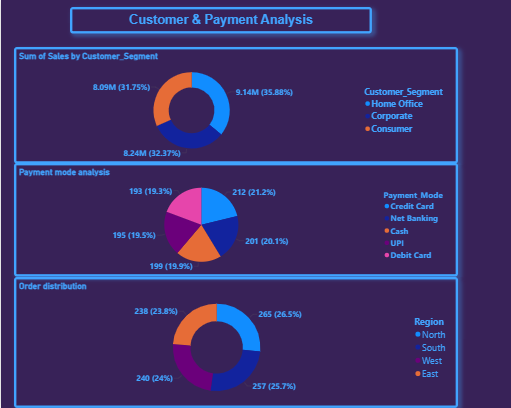

Layout of this report page (visuals, bound fields, positions):
{"tool":"powerbi","page":{"name":"Page 3","canvas":[1500,1200],"ordinal":2},"visuals":[{"type":"textbox","box":[204.1,20.4,887.8,77.6],"z":0},{"type":"donutChart","fields":{"Category":["SalesData.Customer_Segment"],"Y":["Sum(SalesData.Sales)"]},"box":[37.3,137.3,1306,343.3],"z":1000},{"type":"pieChart","title":"Payment mode analysis","fields":{"Category":["SalesData.Payment_Mode"],"Y":["CountNonNull(SalesData.Payment_Mode)"]},"box":[37.3,480.6,1306,334.3],"z":2000},{"type":"donutChart","title":"Order distribution ","fields":{"Category":["SalesData.Region"],"Y":["CountNonNull(SalesData.Order_ID)"]},"box":[37.3,814.9,1306,385.1],"z":3000}]}

Visuals, with their boxes in screenshot pixels (x1, y1, x2, y2), scaled from the page's 1500x1200 canvas onto the 511x408 screenshot:
textbox: bbox=(70, 7, 372, 33)
donutChart - SalesData.Customer_Segment x Sum(SalesData.Sales): bbox=(13, 47, 458, 163)
"Payment mode analysis" pieChart: bbox=(13, 163, 458, 277)
"Order distribution " donutChart: bbox=(13, 277, 458, 407)
